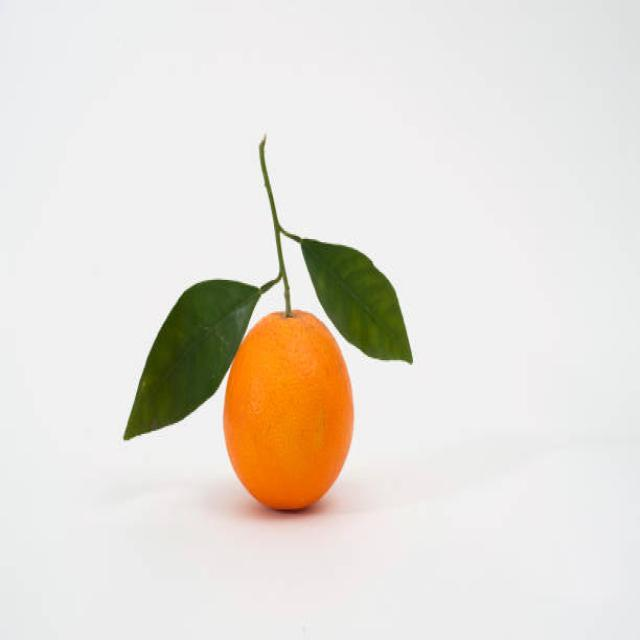orange: (224, 310, 355, 510)
